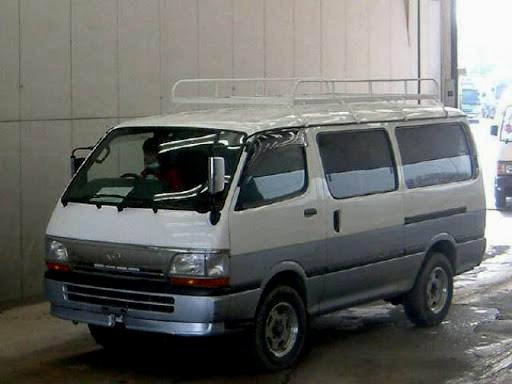van: (44, 86, 492, 355)
